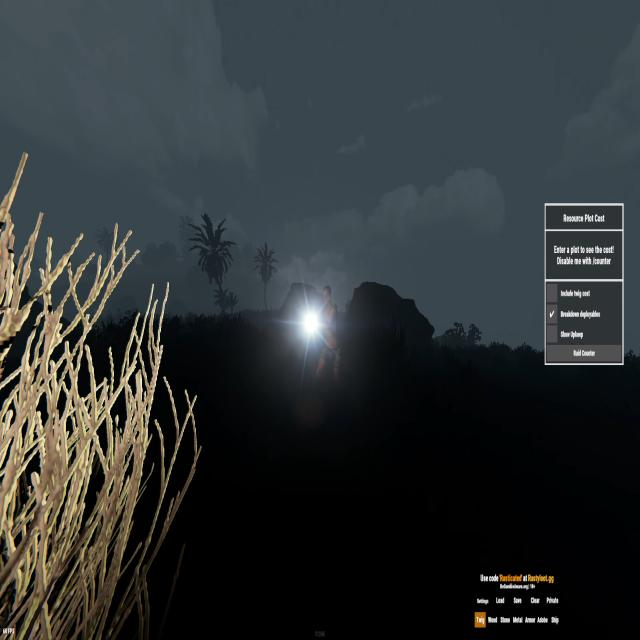Player: (314, 277, 343, 412)
